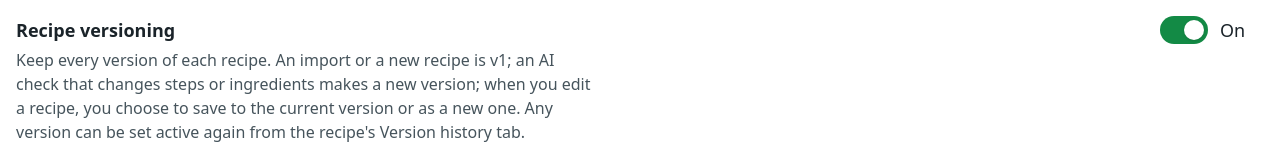
Test: Recipe versioning switch (Settings › Recipes) › saves right away
Click the switch named "Recipe versioning".
click(1184, 30)  # box [1160,16,1208,44]
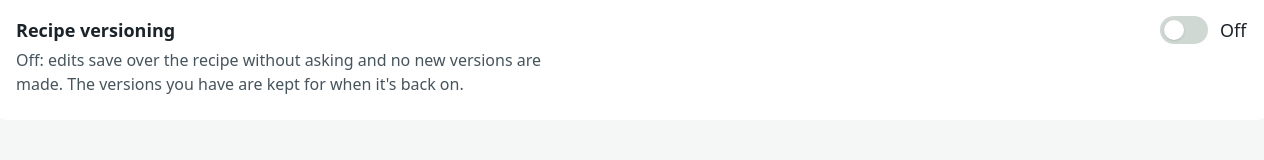
Check: the switch named "Recipe versioning" is not checked, box [1160,16,1208,44]
